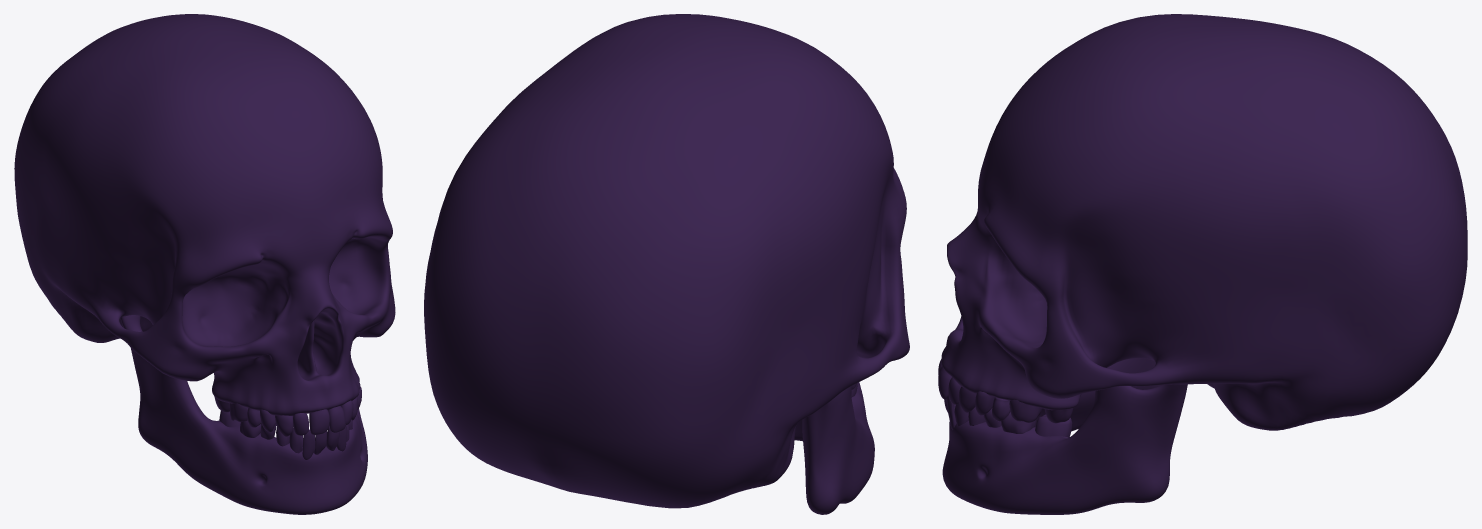
The model's file is skull.glb.
3 views of the same model, side by side, from view 1: azimuth 30°, elevation 25°; view 2: azimuth 150°, elevation 25°; view 3: azimuth 270°, elevation 25° (orthographic). The views are drawn at different scales.
Parts seen in each view (by area): view 1: 12140_Skull_v3_L2; view 2: 12140_Skull_v3_L2; view 3: 12140_Skull_v3_L2.
Boxes of the visible parts, <box> form: 12140_Skull_v3_L2: <box>14,14,395,514</box>; 12140_Skull_v3_L2: <box>424,14,909,514</box>; 12140_Skull_v3_L2: <box>938,14,1467,514</box>.
Size of the model in its own units: 19.84 by 27.53 by 29.45.
